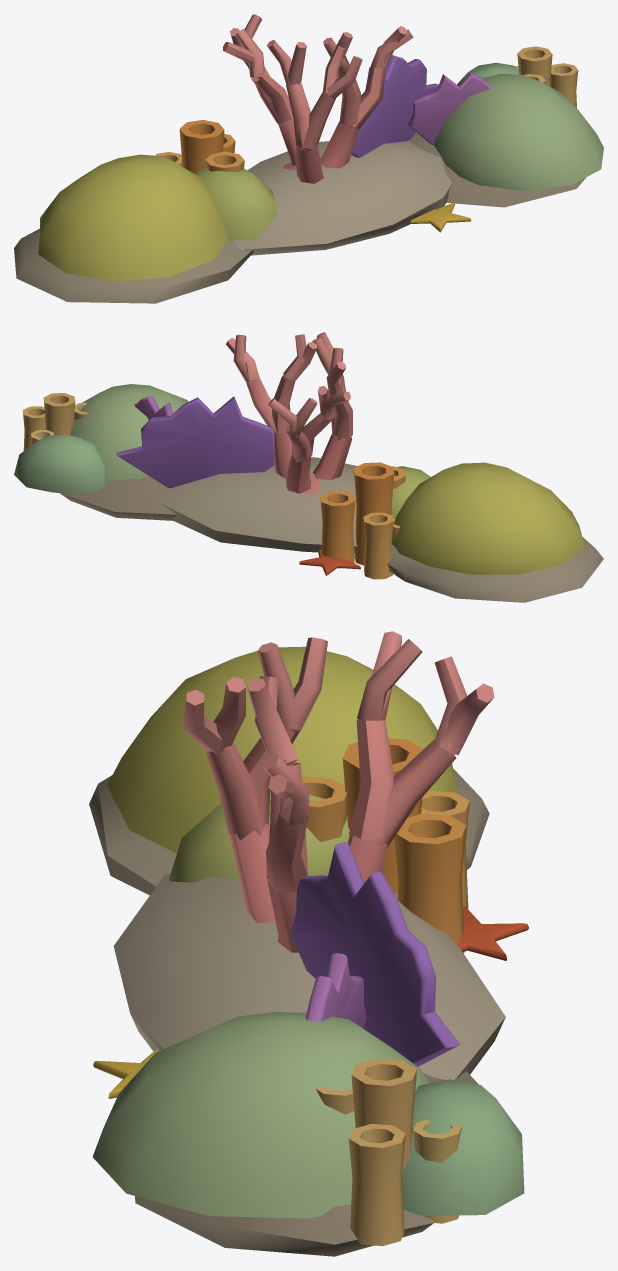
File: coral-reef-c.glb
The picture shows the model from 3 angles, top to bottom: view 1: azimuth 30°, elevation 25°; view 2: azimuth 150°, elevation 25°; view 3: azimuth 270°, elevation 25°; orthographic projection. The views are drawn at different scales.
Visible parts, largest first — view 1: coral-reef-c; view 2: coral-reef-c; view 3: coral-reef-c.
Part boxes in pixels (x1,y1,x2,y2): coral-reef-c: [14, 14, 603, 303]; coral-reef-c: [14, 332, 603, 602]; coral-reef-c: [89, 631, 528, 1256].
Bounding box in the file's own units: 3.81 × 1.18 × 1.33.
